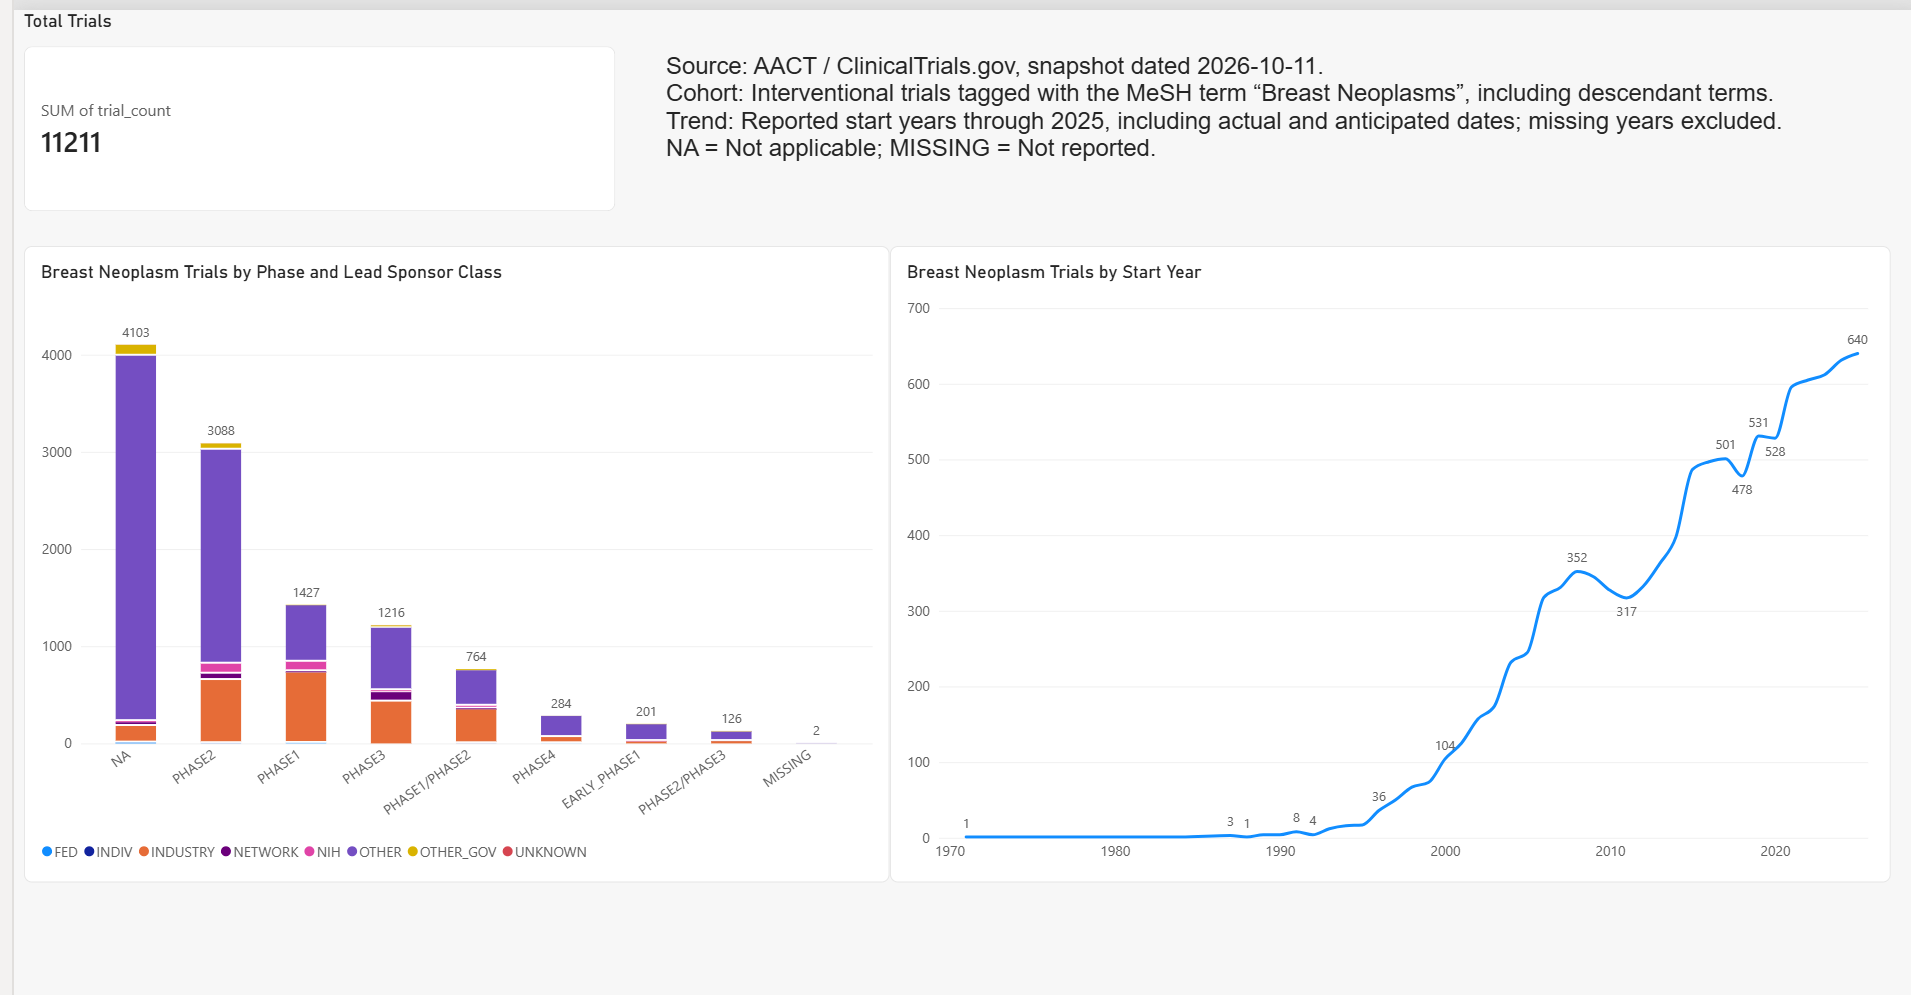

The dashboard page shown, as its layout file describes it:
{"tool":"powerbi","page":{"name":"Phase & Sponsor","canvas":[1920,1080],"ordinal":0},"visuals":[{"type":"columnChart","title":"Breast Neoplasm Trials by Phase and Lead Sponsor Class","fields":{"Category":["agg_breast_phase_sponsor.phase"],"Series":["agg_breast_phase_sponsor.sponsor_class"],"Y":["Sum(agg_breast_phase_sponsor.trial_count)"]},"box":[10.9,238.4,871.2,640.5],"z":0},{"type":"cardVisual","title":"Total Trials","fields":{"Data":["Sum(agg_breast_phase_sponsor.trial_count)"]},"box":[10.9,0,595.3,202.6],"z":1000},{"type":"lineChart","title":"Breast Neoplasm Trials by Start Year","fields":{"Category":["fct_breast_trials.start_year"],"Y":["Count(fct_breast_trials.nct_id)"]},"box":[882.1,238.4,1006.8,640.5],"z":2000},{"type":"textbox","box":[656.1,42.1,1232.7,160.5],"z":2001}]}

Visuals, with their boxes on the page's 1920x1080 design canvas (x1, y1, x2, y2). These are canvas units, not pixel positions in the 1911x995 screenshot, which may show the page scaled, cropped or inside an application window:
"Breast Neoplasm Trials by Phase and Lead Sponsor Class" columnChart: 11/238/882/879
"Total Trials" cardVisual: 11/0/606/203
"Breast Neoplasm Trials by Start Year" lineChart: 882/238/1889/879
textbox: 656/42/1889/203
